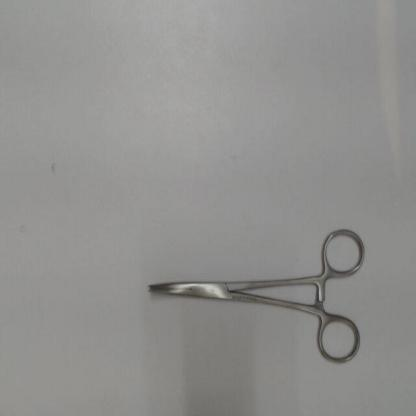Crile Artery Forceps: (140, 219, 372, 376)
